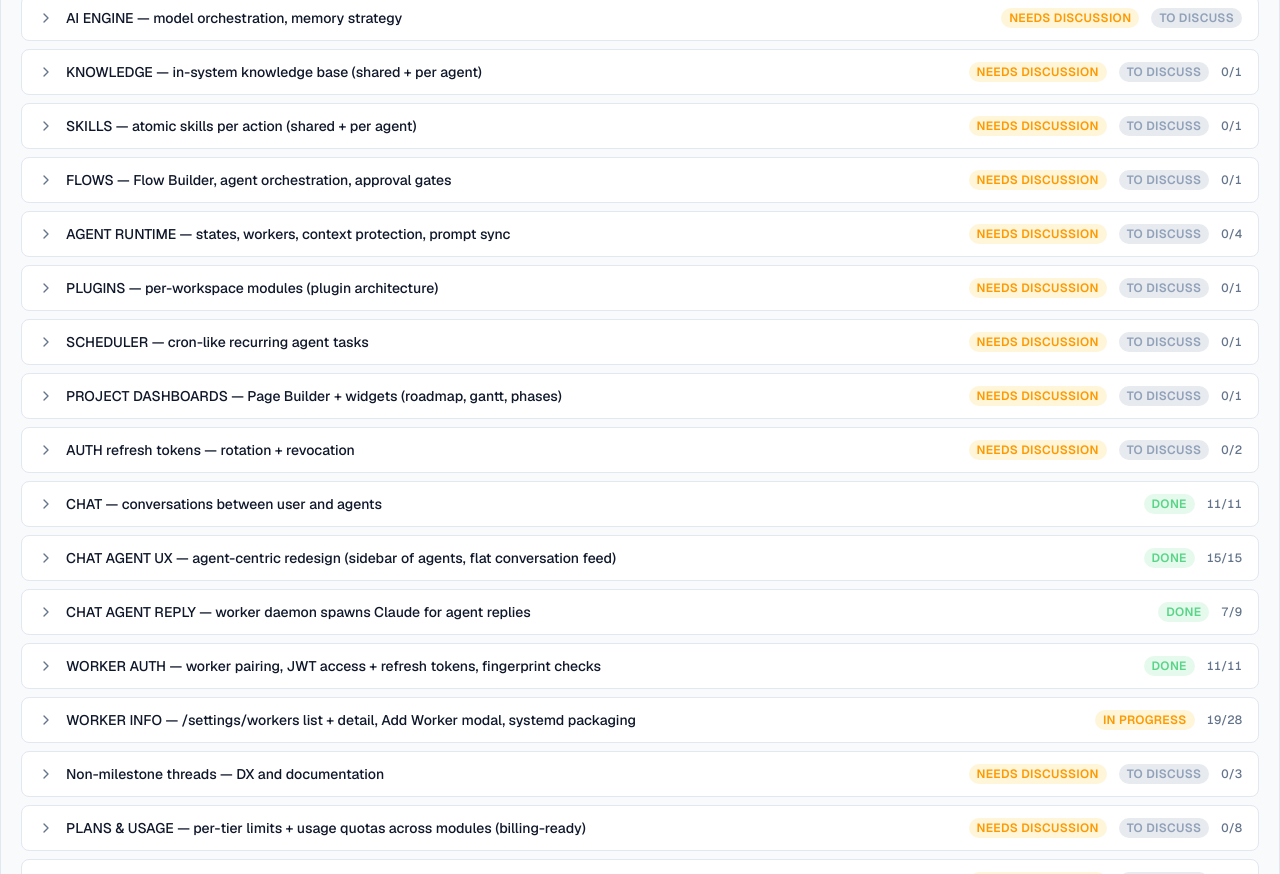
Test: RoadmapPanel › should render the AUTH refresh tokens milestone as planned with its BL-AUTH-004/005 tasks and no commit links
This screenshot has width=1280, height=874.
(page scrolled)
Click the text "AUTH refresh tokens — rotation + revocation".
click(210, 450)  # box top-left (66, 441), bottom-right (355, 459)
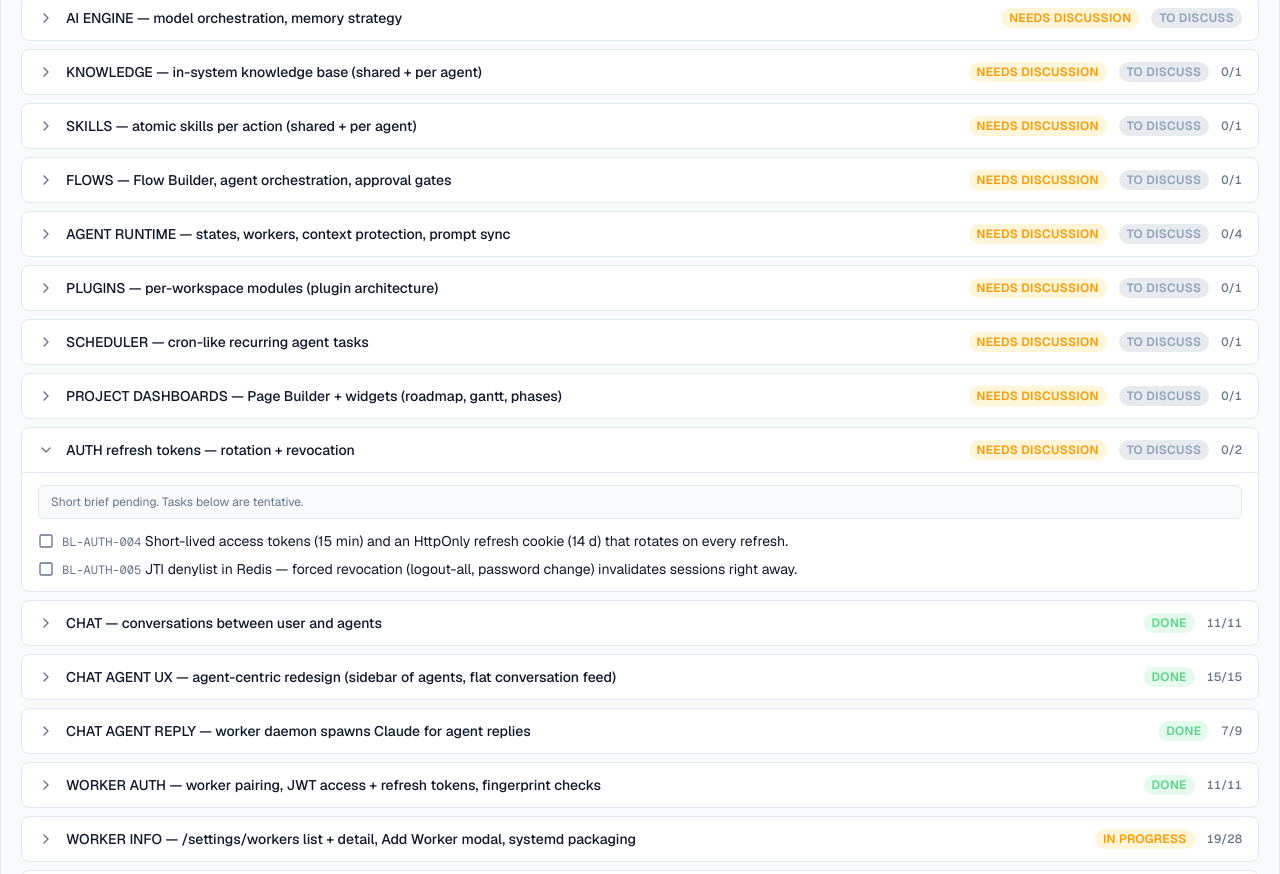
Check: the text "BL-AUTH-004" is shown, box top-left (62, 534), bottom-right (141, 550)
Check: the text "BL-AUTH-005" is shown, box top-left (62, 562), bottom-right (141, 578)
